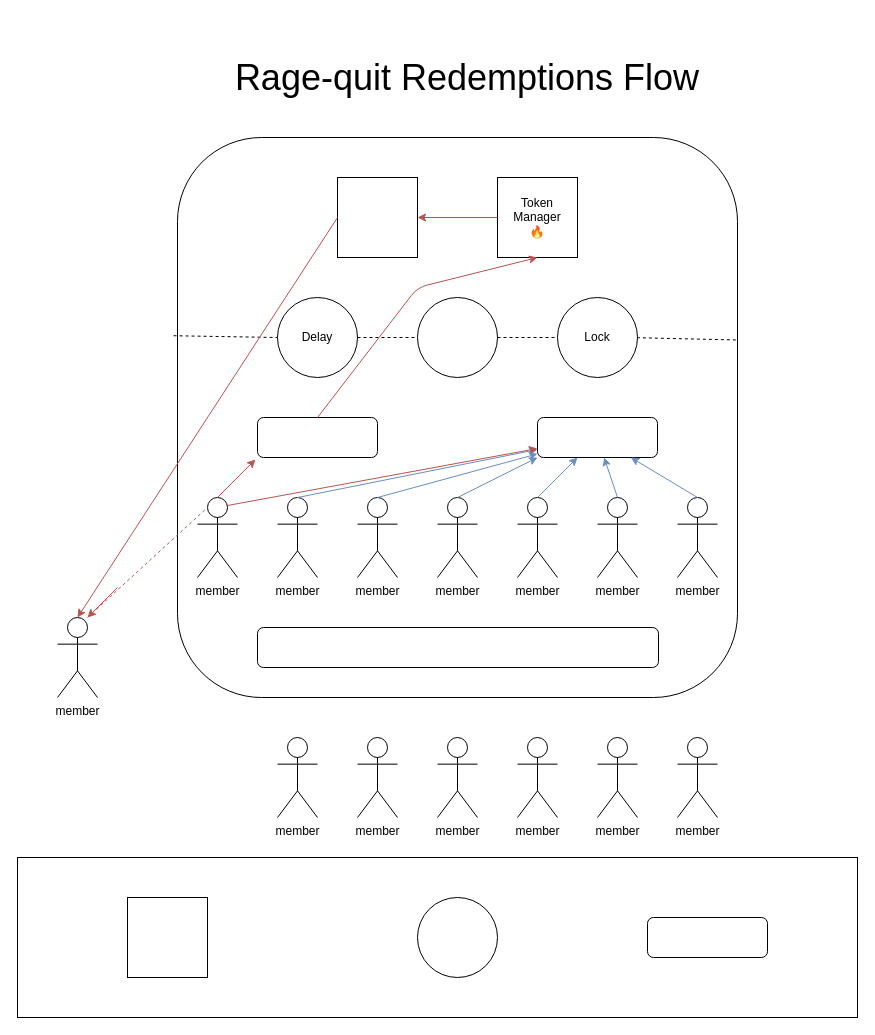
Some shapes in this 875 by 1035 pixel diagram are drawn without their labels. Here are the shapes that lost their labels. From the top down, the box of each, then its label:
(336, 176, 418, 258): Vault
(416, 296, 498, 378): Voting and Dissent Oracle
(256, 416, 378, 458): Redemptions
(536, 416, 658, 458): Voting
(256, 626, 658, 668): Token Request
(126, 896, 208, 978): Backend Apps
(416, 896, 498, 978): Permission Checkers
(646, 916, 768, 958): User Facing Apps
